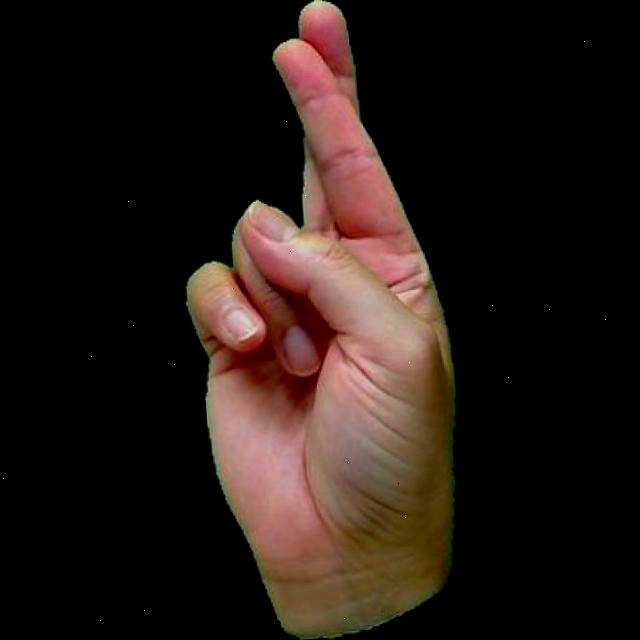r: (154, 0, 481, 640)
